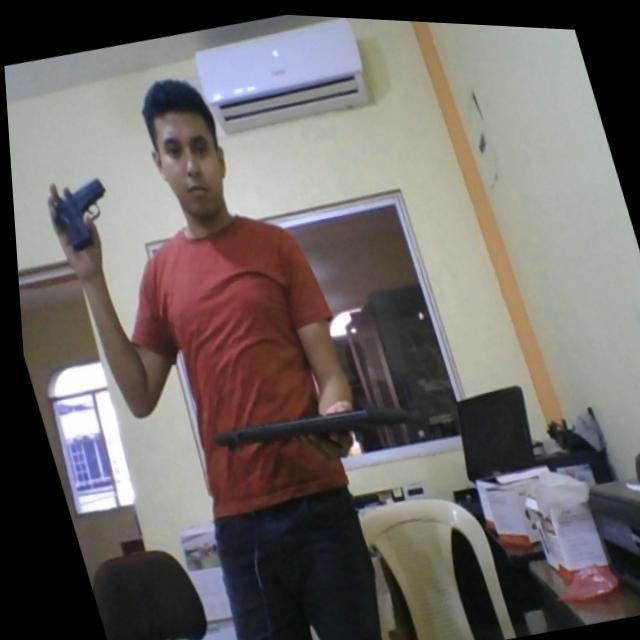weapon: (39, 170, 119, 256)
